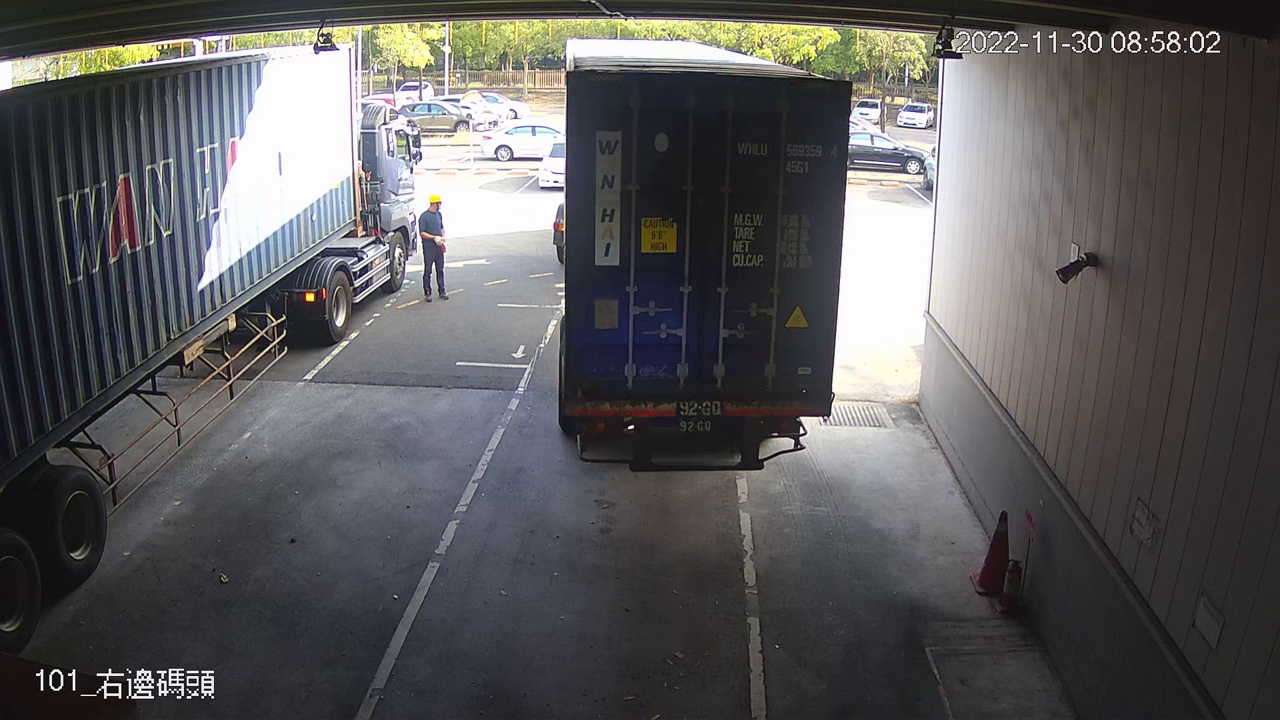container: (733, 137, 843, 177)
